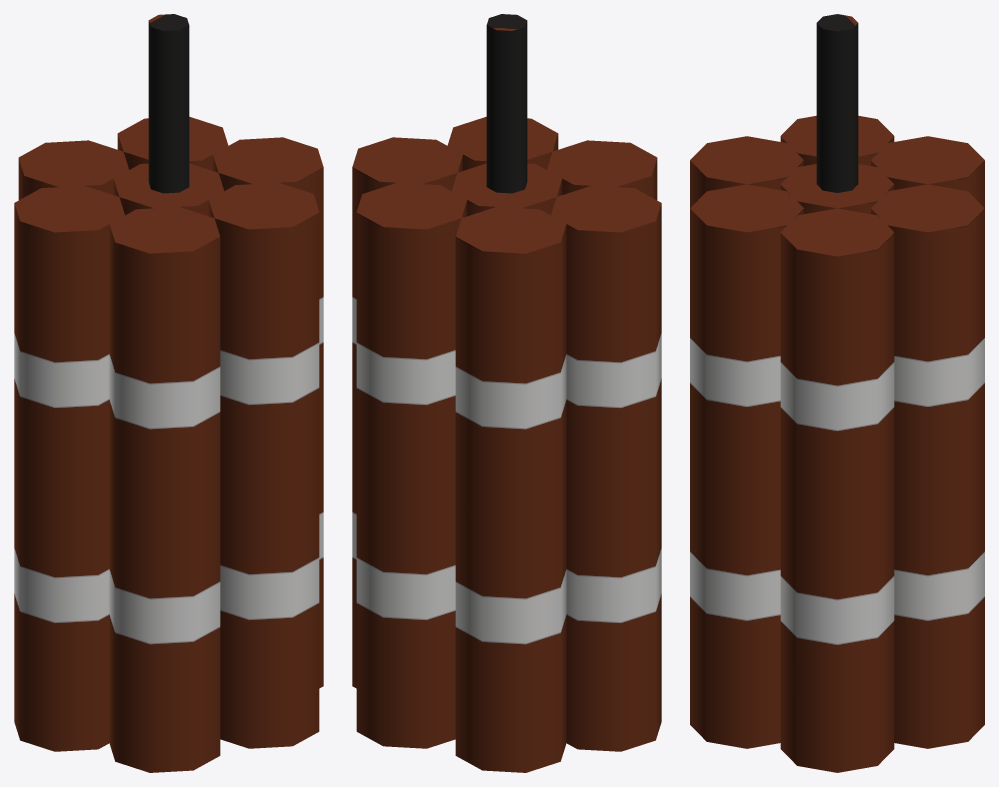
Rendered from dynamite.fbx.
3 views of the same model, side by side, from view 1: azimuth 30°, elevation 25°; view 2: azimuth 150°, elevation 25°; view 3: azimuth 270°, elevation 25° (orthographic).
Parts seen in each view (by area): view 1: Cylinder; view 2: Cylinder; view 3: Cylinder.
Part boxes in pixels (bbox=[...]): Cylinder: bbox=[14, 14, 323, 772]; Cylinder: bbox=[352, 14, 661, 772]; Cylinder: bbox=[690, 14, 984, 772].
Bounding box in the file's own units: 18 × 39.38 × 15.52.
